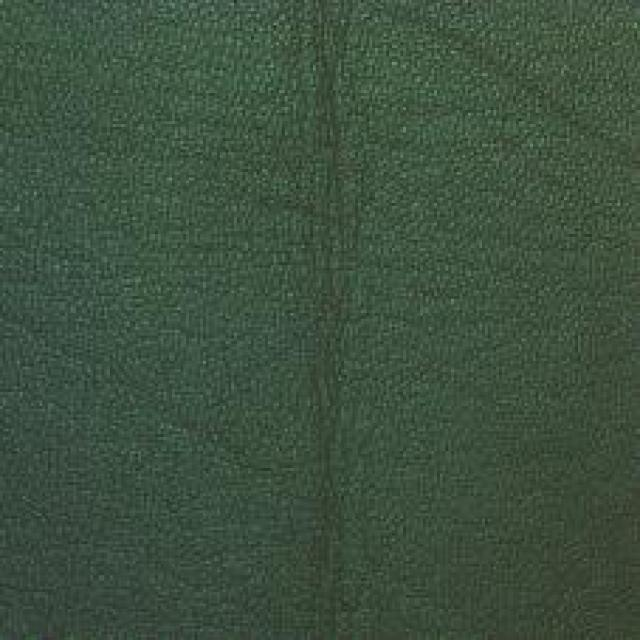Growth Marks: (227, 24, 438, 166), (239, 203, 445, 338)
